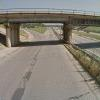Bridge: (7, 3, 94, 42)
